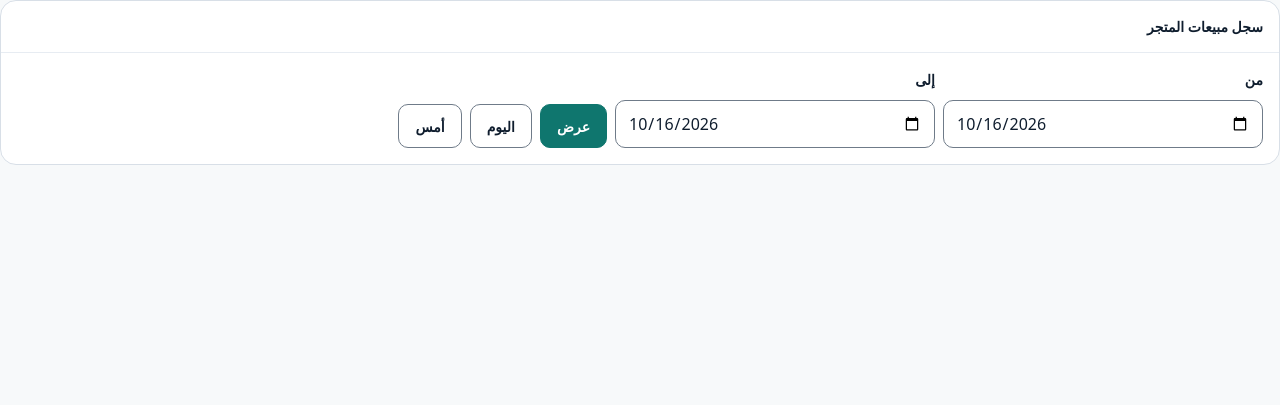
Test: RT-542 SalesHistory — pages › appends the next page of the same walk
Click the button "عرض".
click(574, 126)  # box [540,104,607,148]
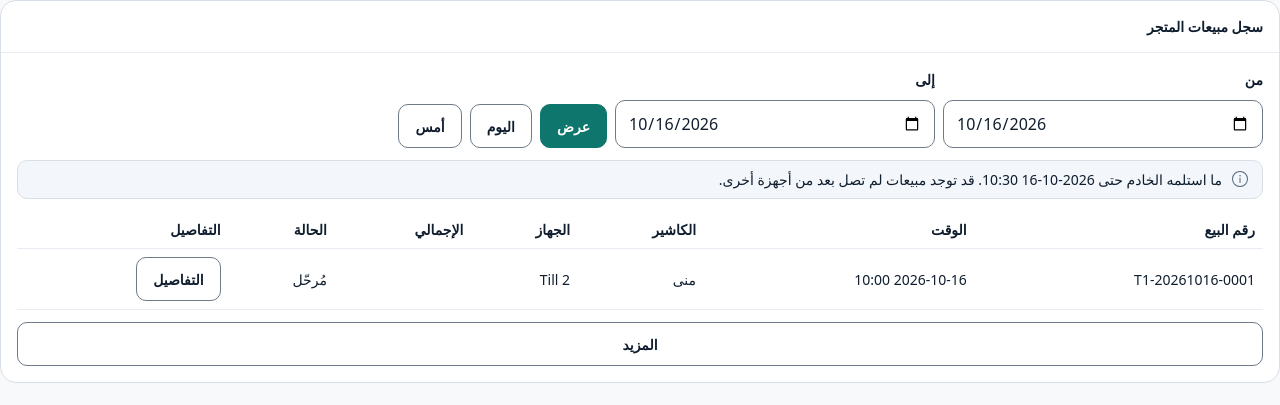
Click the button "المزيد".
click(640, 344)  # box [17,322,1263,366]
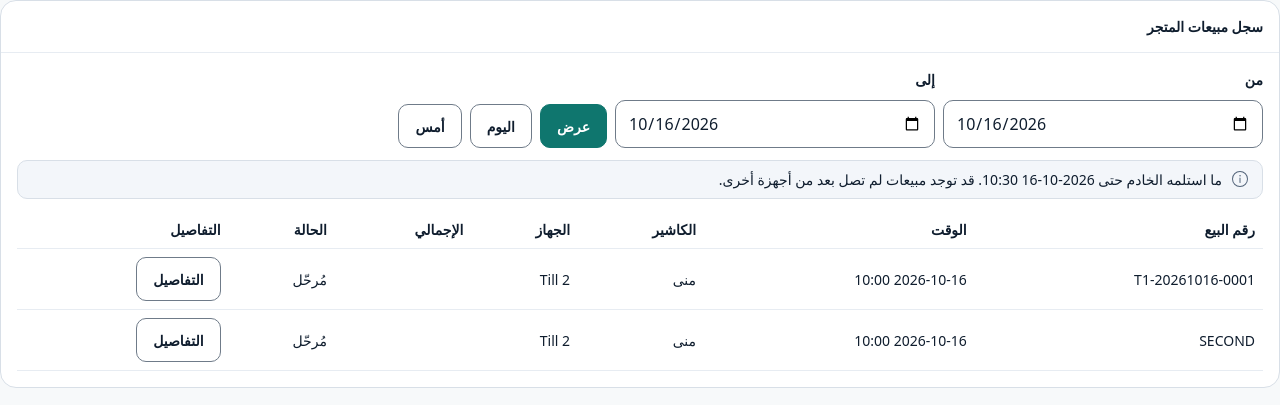
Check: the table with test id "history-rows" shows "T1-20261016-0001", box [1134,270,1255,288]
Check: the table with test id "history-rows" shows "SECOND", box [1199,330,1255,350]
